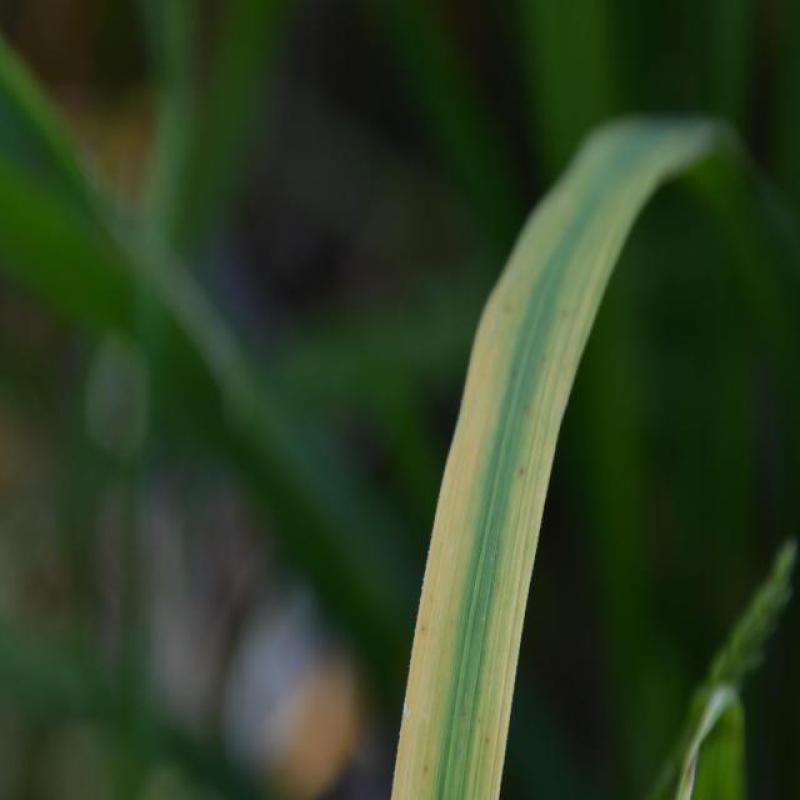Rice Tungro: (319, 172, 676, 800)
